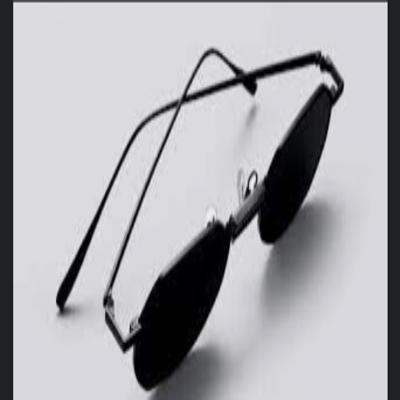glasses: (56, 44, 349, 392)
